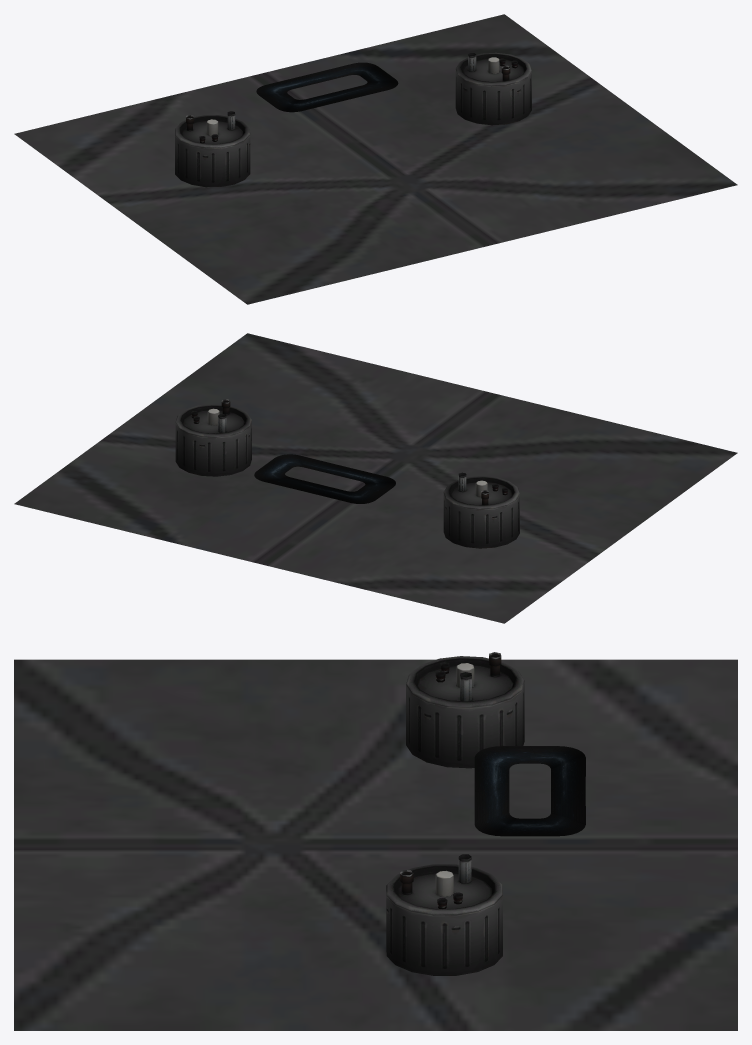
Rendered from env_territory_holo_table_vertical_pre.glb.
The picture shows the model from 3 angles, top to bottom: view 1: azimuth 30°, elevation 25°; view 2: azimuth 150°, elevation 25°; view 3: azimuth 270°, elevation 25°; orthographic projection. The views are drawn at different scales.
Parts seen in each view (by area): view 1: cantina_floor_mesh, tat_cantina_table_mesh (5), tat_cantina_table_mesh (6), vfx_holotable_glow_mesh_01; view 2: cantina_floor_mesh, tat_cantina_table_mesh (5), tat_cantina_table_mesh (6), vfx_holotable_glow_mesh_01; view 3: cantina_floor_mesh, tat_cantina_table_mesh (5), tat_cantina_table_mesh (6), vfx_holotable_glow_mesh_01.
Boxes of the visible parts, bbox=[...] form: cantina_floor_mesh: bbox=[14, 14, 737, 304]; tat_cantina_table_mesh (5): bbox=[455, 52, 531, 125]; tat_cantina_table_mesh (6): bbox=[175, 111, 250, 187]; vfx_holotable_glow_mesh_01: bbox=[256, 62, 398, 112]; cantina_floor_mesh: bbox=[14, 333, 737, 623]; tat_cantina_table_mesh (5): bbox=[175, 399, 251, 476]; tat_cantina_table_mesh (6): bbox=[443, 472, 519, 548]; vfx_holotable_glow_mesh_01: bbox=[254, 454, 395, 503]; cantina_floor_mesh: bbox=[14, 659, 737, 1030]; tat_cantina_table_mesh (5): bbox=[386, 854, 502, 975]; tat_cantina_table_mesh (6): bbox=[406, 652, 524, 768]; vfx_holotable_glow_mesh_01: bbox=[474, 746, 585, 836].
Size of the model in its own units: 63.12 by 6.61 by 52.02.
Materials: 4 (4 with a texture image).
